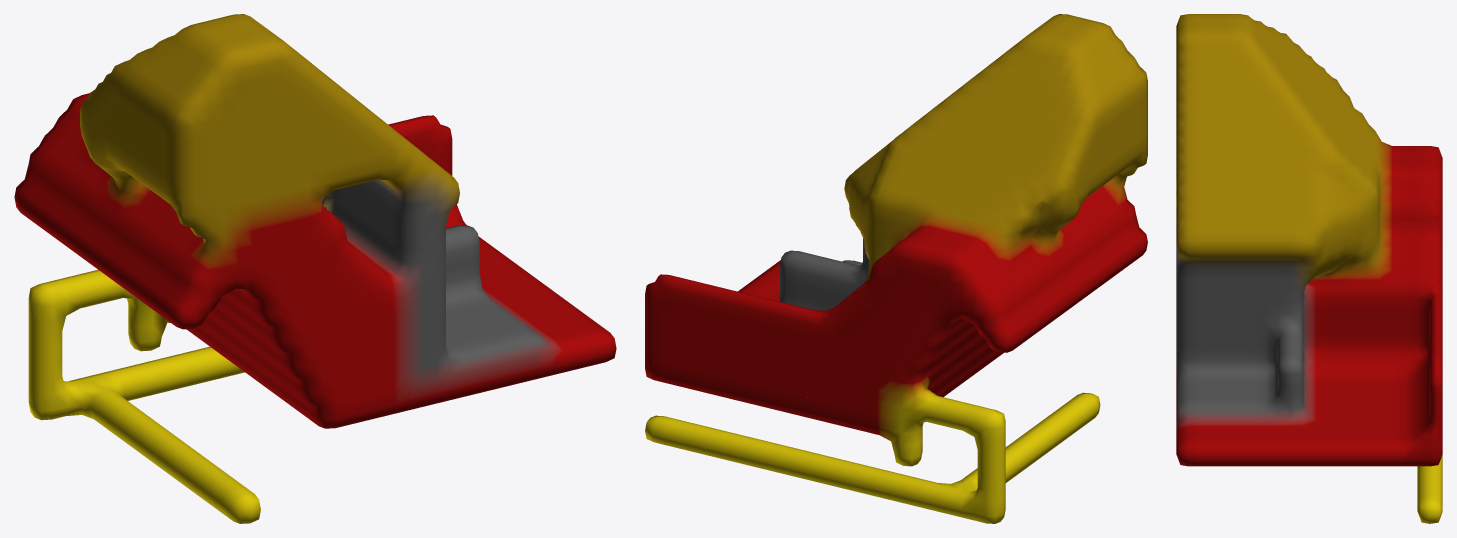
3 views of the same model, side by side, from view 1: azimuth 30°, elevation 25°; view 2: azimuth 150°, elevation 25°; view 3: azimuth 270°, elevation 25° (orthographic). The views are drawn at different scales.
Bounding box in the file's own units: 1.55 × 1.6 × 1.05.
